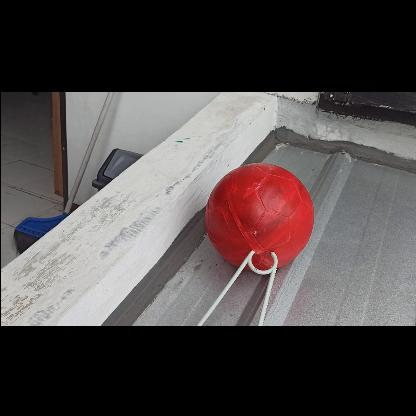red_ball: (205, 161, 313, 269)
